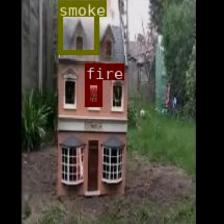fire: (84, 79, 101, 106)
smoke: (57, 0, 98, 54)
